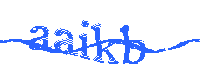a: (30, 24, 50, 51), (53, 28, 73, 55)
b: (120, 24, 146, 66)
i: (79, 20, 90, 62)
k: (92, 23, 119, 66)
